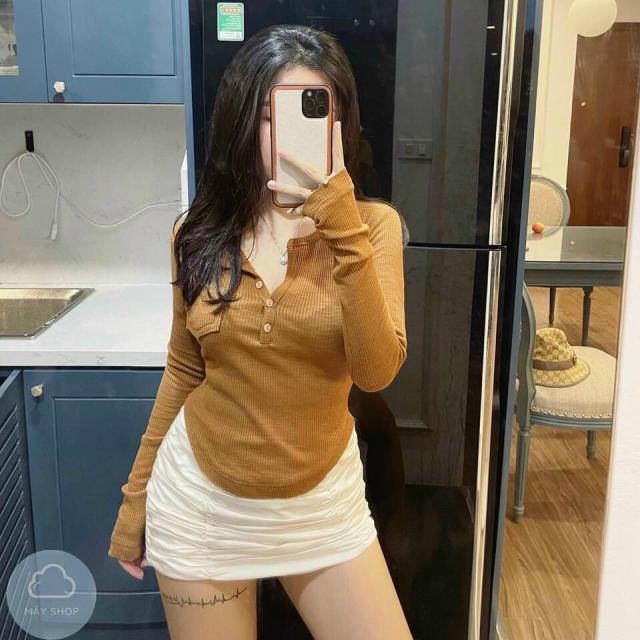Shirt: (105, 168, 409, 562)
